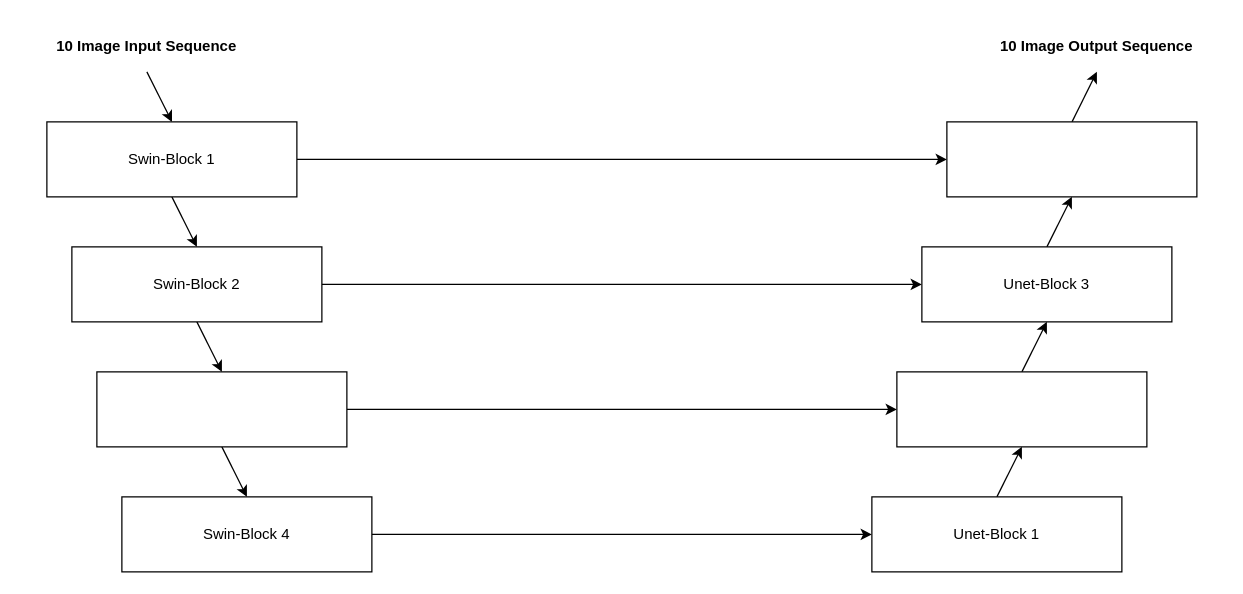
This 1243x594 diagram has some shape labels left out. Here are the shapes that lost their labels. From the top down, the centre of each, then its label:
At [1071,159]: "Unet-Block 4".
At [221,409]: "Swin-Block 3".
At [1021,409]: "Unet-Block 2".
